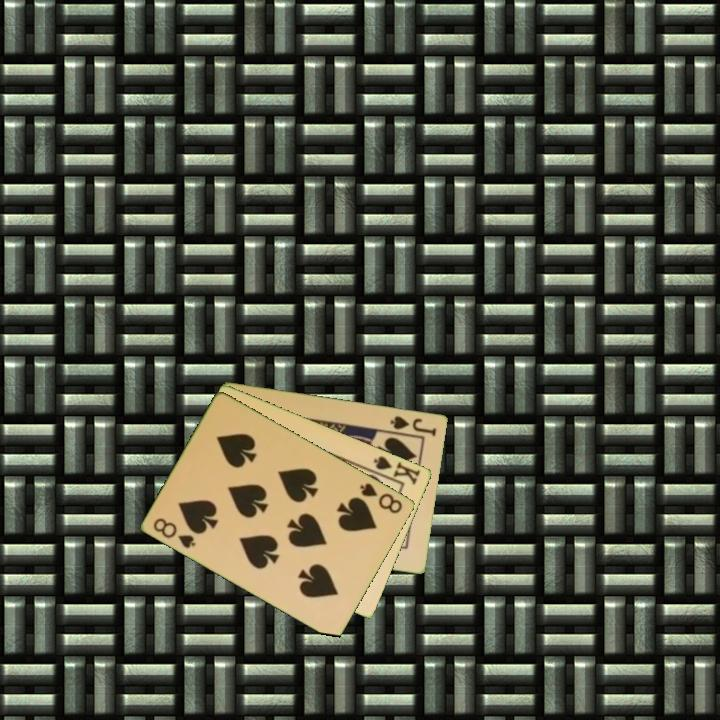8s: (356, 479, 406, 517), (150, 514, 199, 551)
Js: (387, 412, 439, 439)
Ks: (367, 452, 424, 488)
